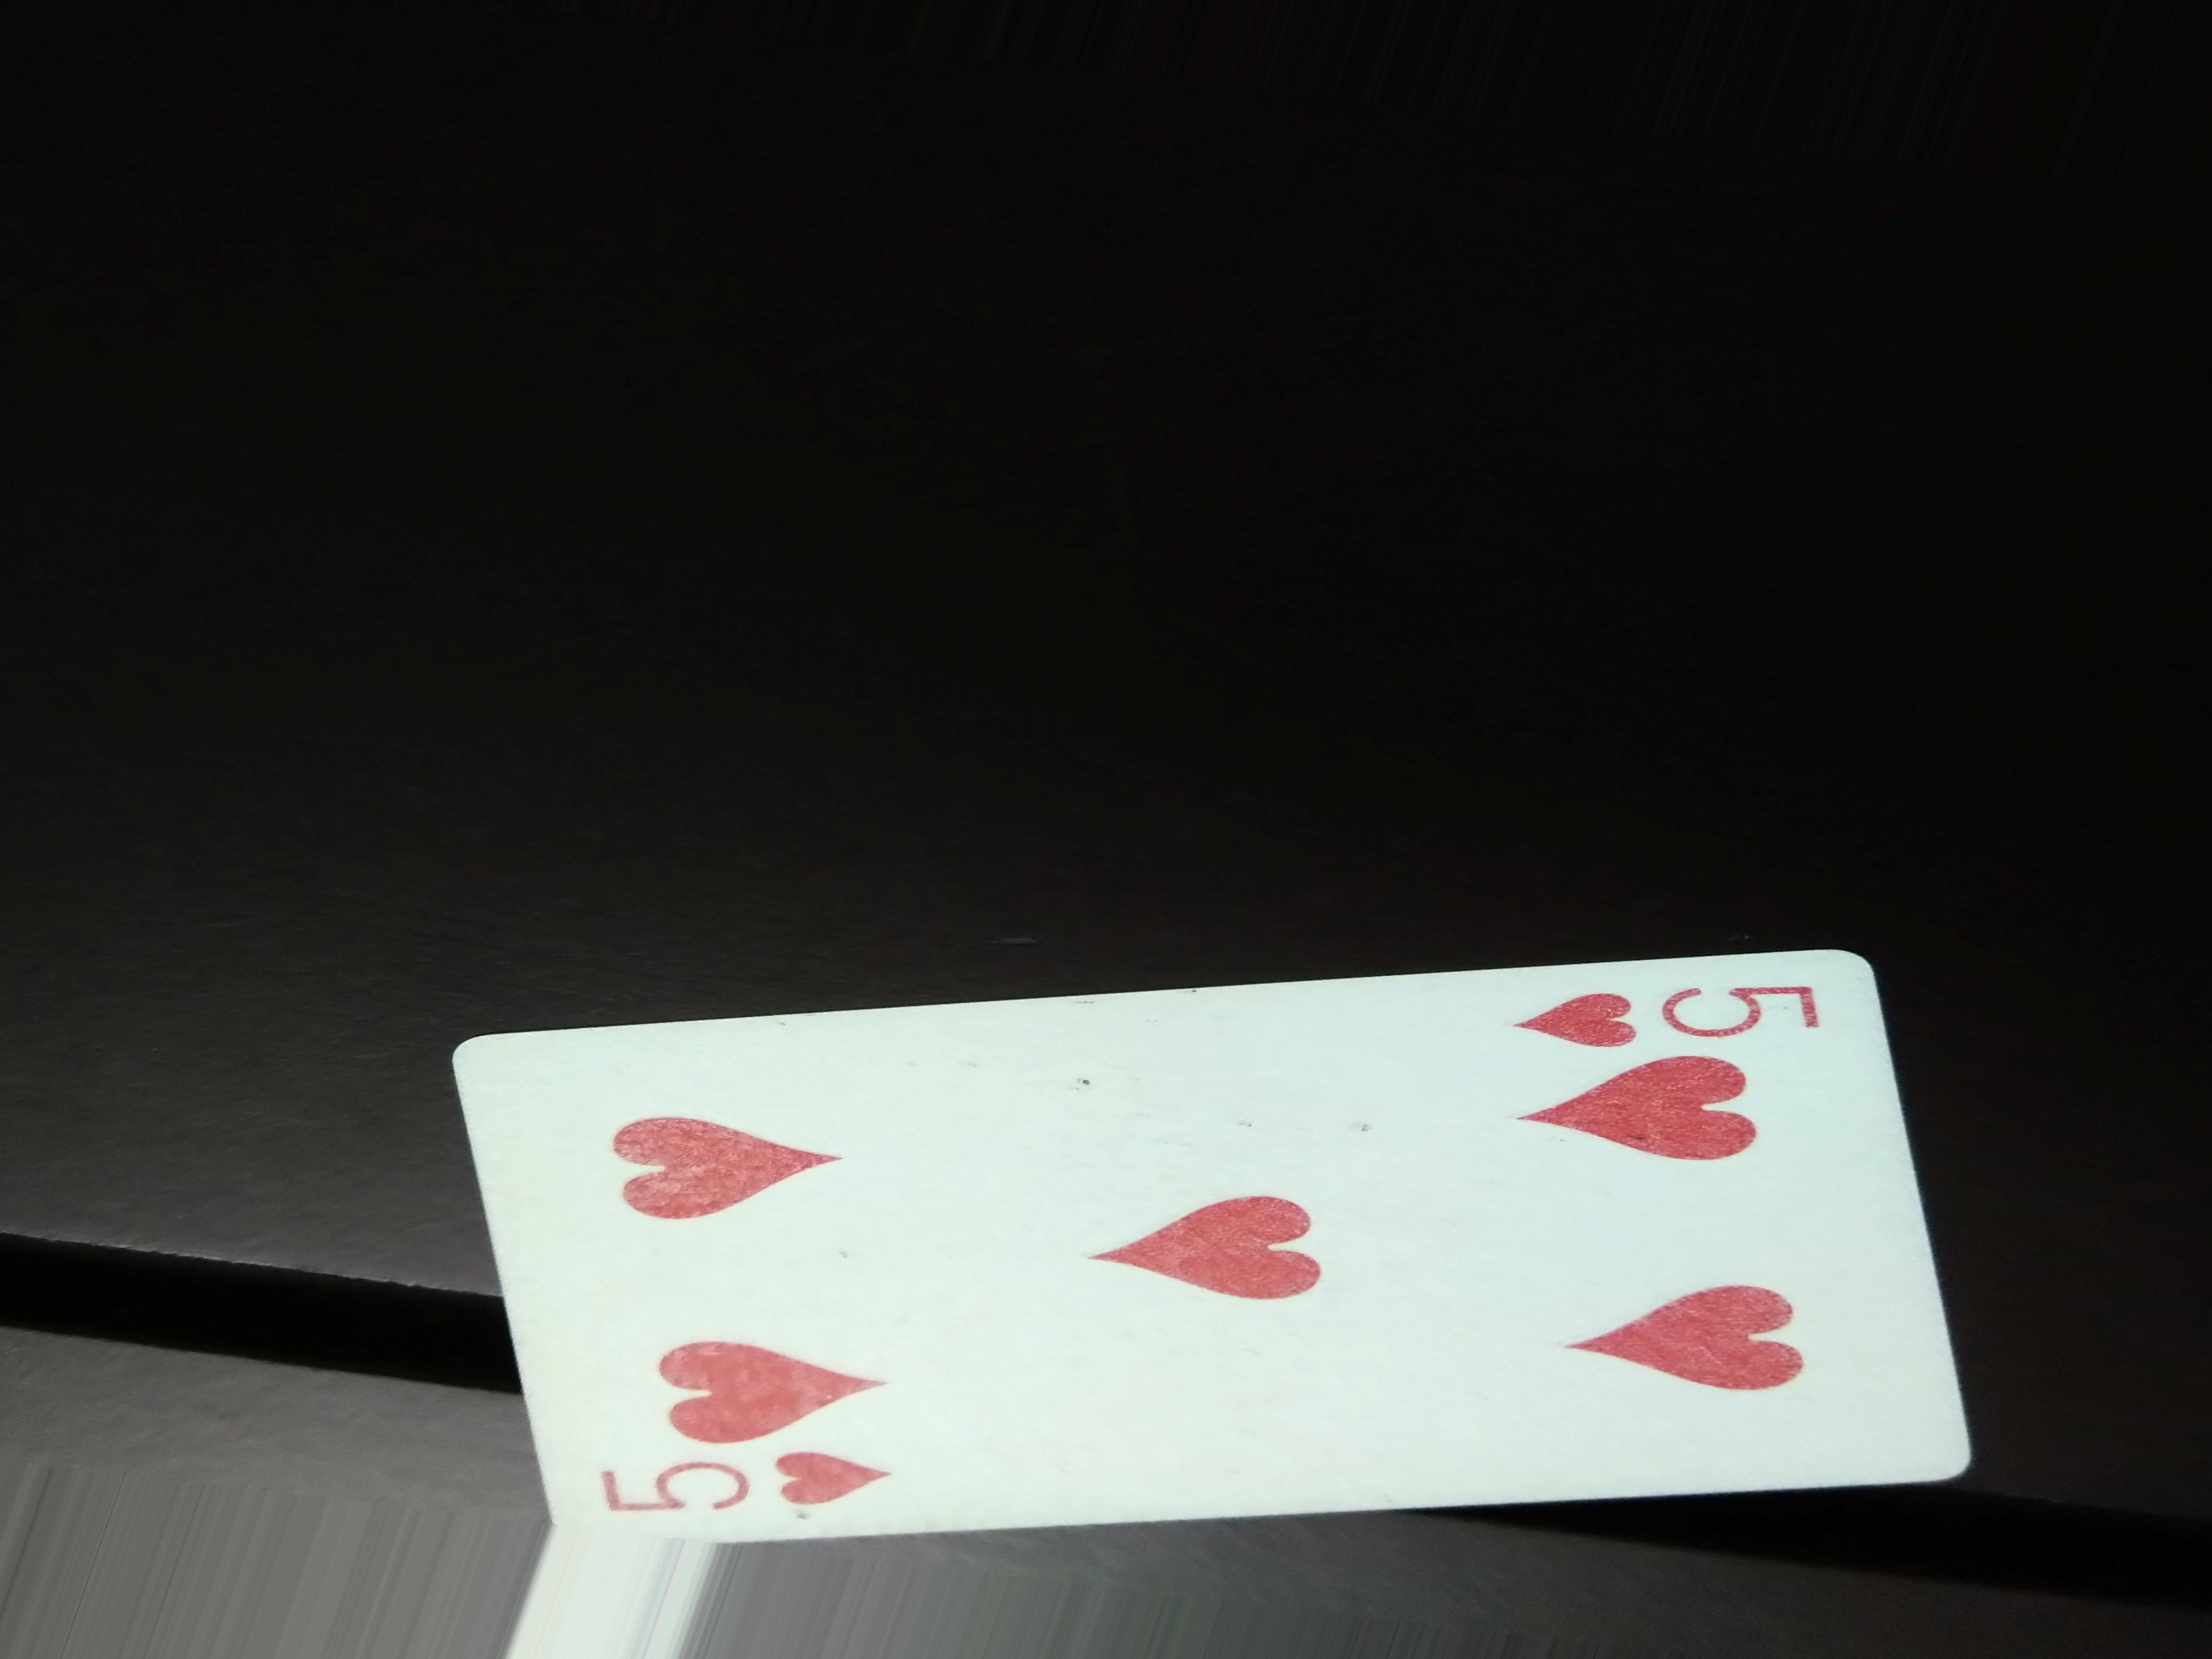5H: (1498, 950, 1848, 1054)
